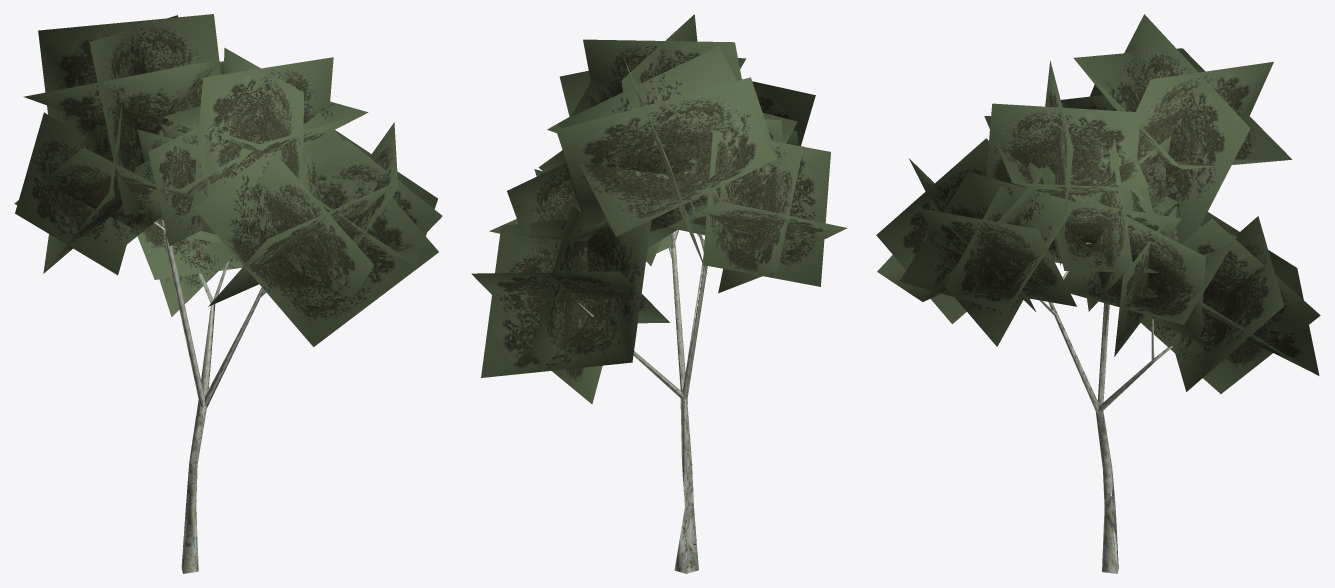
Rendered from ever_eucalyptus_tall_l1.fbx.
3 views of the same model, side by side, from view 1: azimuth 30°, elevation 25°; view 2: azimuth 150°, elevation 25°; view 3: azimuth 270°, elevation 25° (orthographic). The views are drawn at different scales.
Visible parts, largest first — view 1: mesh_node; view 2: mesh_node; view 3: mesh_node.
Part boxes in pixels (<box>): mesh_node: <box>14,14,442,573</box>; mesh_node: <box>471,14,847,573</box>; mesh_node: <box>876,14,1320,573</box>.
Bounding box in the file's own units: 16.91 × 23.68 × 18.47.
